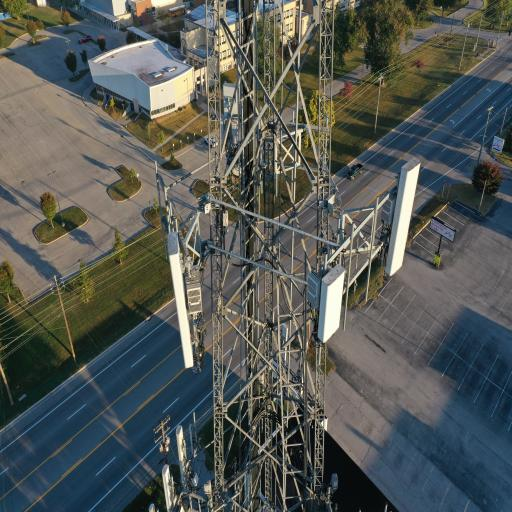supporting_tower: (144, 0, 461, 512)
